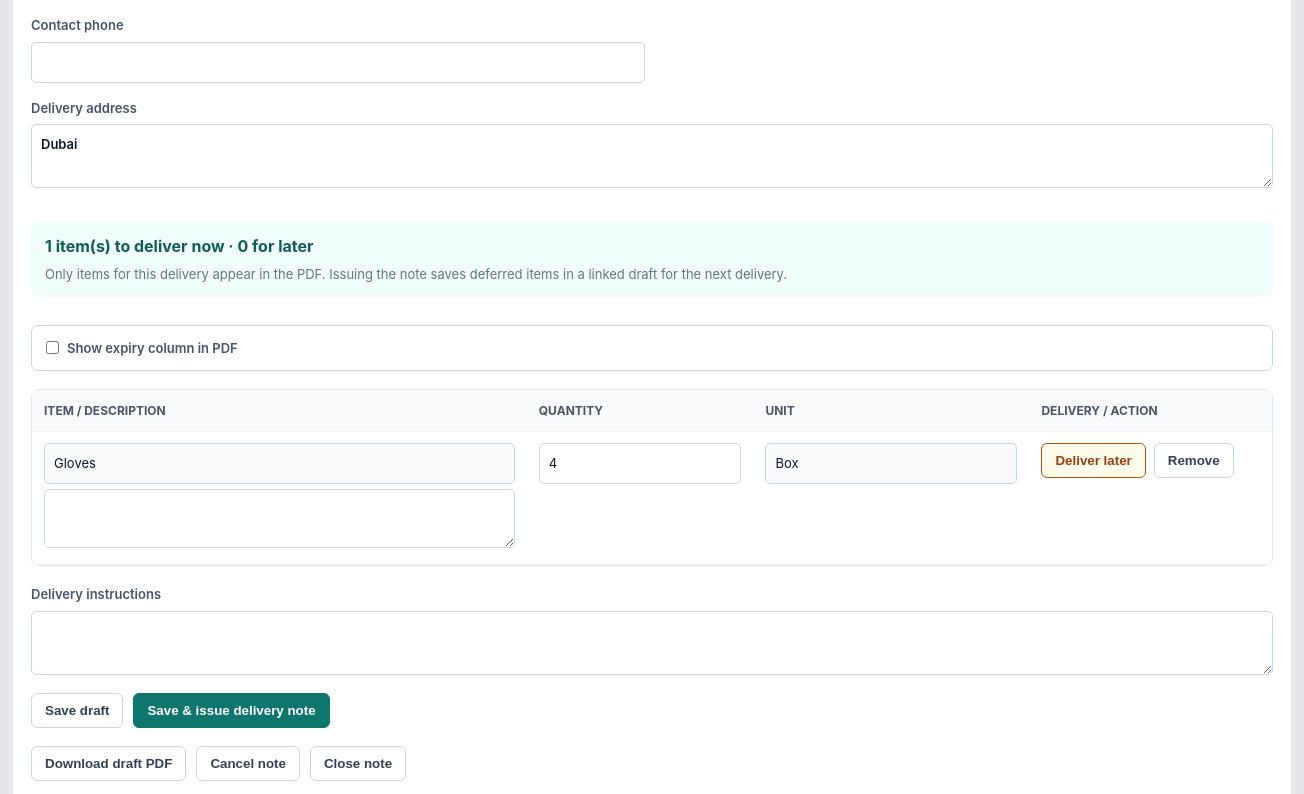
issuing shows the linked next-delivery draft returned by the server
The image size is (1304, 794).
(page scrolled)
Step 1. Click the button "Save & issue delivery note" → (232, 711), box [134,693,330,728]
(page scrolled)
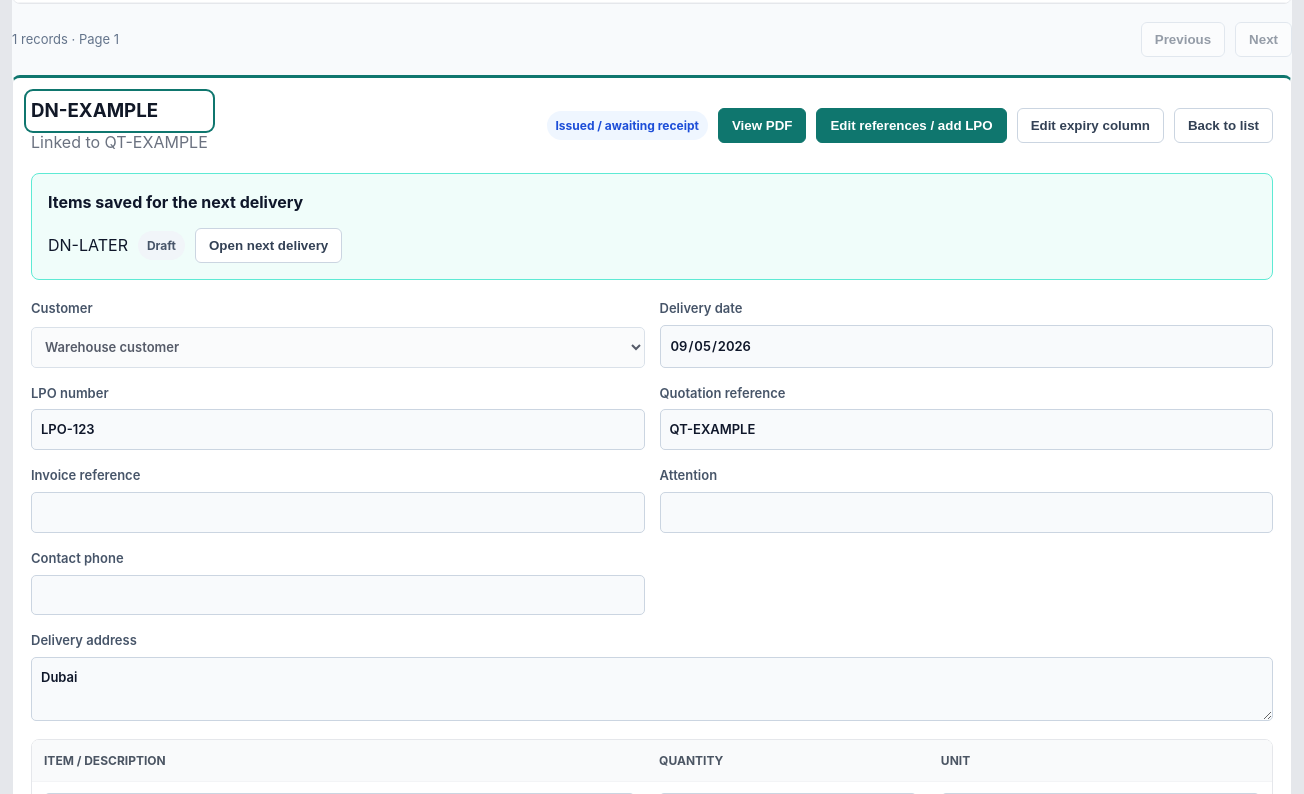
Expected: the text "DN-LATER" is shown, [48,233,128,258]
Step 2. Click the button "Open next delivery" → (269, 246), box [195,228,342,263]
(page scrolled)
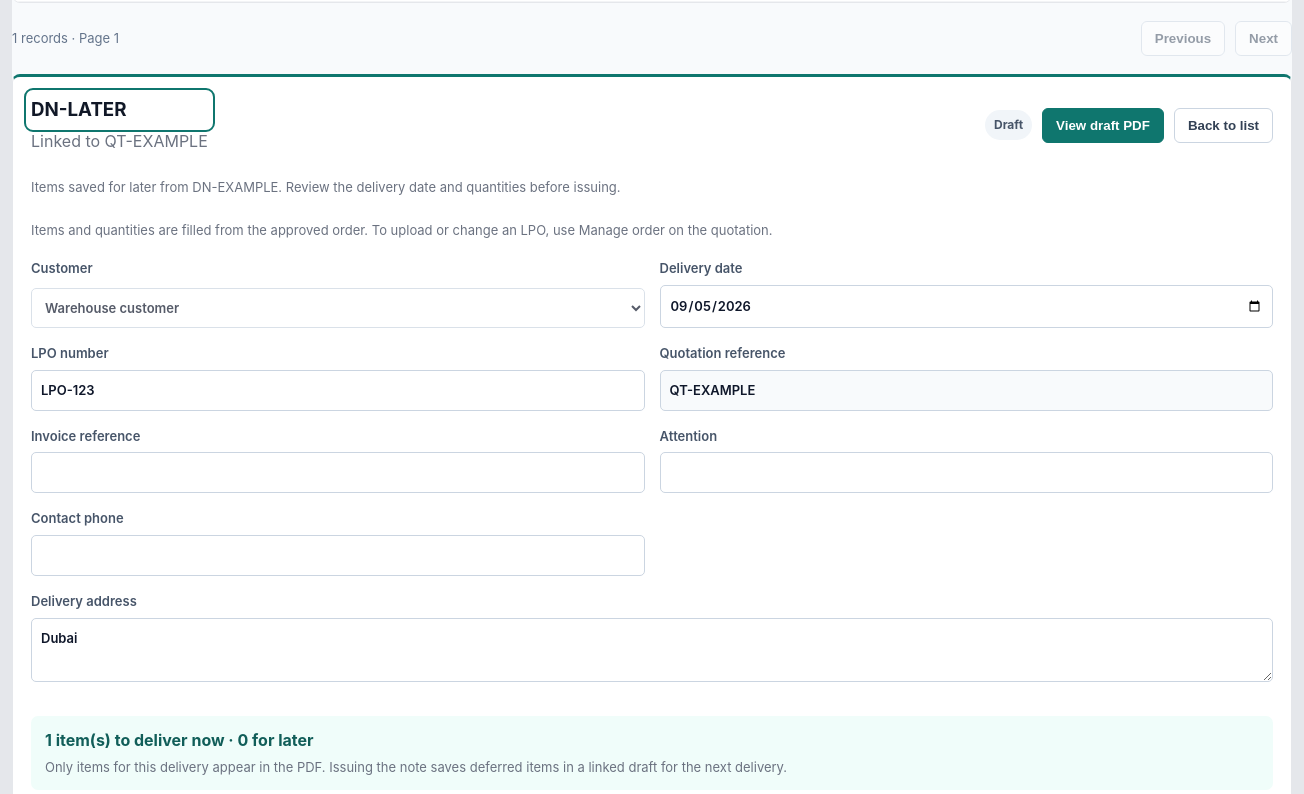
Expected: the heading "DN-LATER" is shown, [31,98,126,121]
Expected: the text "Items saved for later from DN-EXAMPLE" is shown, [31,179,621,195]
